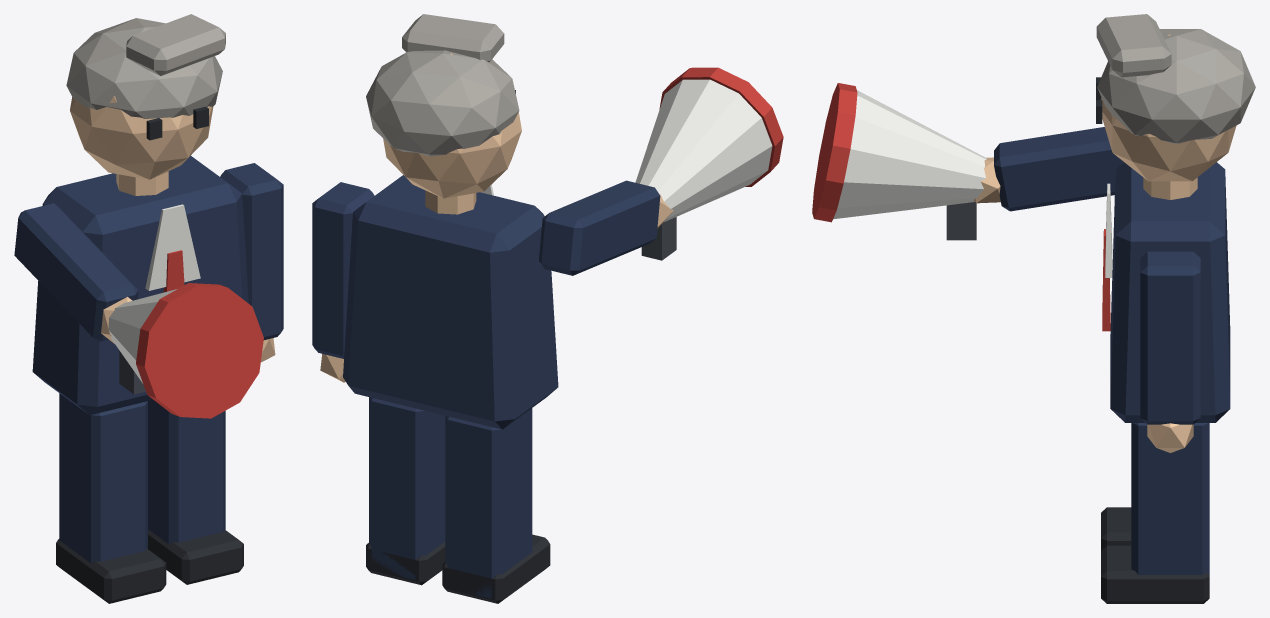
The model's file is headofcomms.glb.
3 views of the same model, side by side, from view 1: azimuth 30°, elevation 25°; view 2: azimuth 150°, elevation 25°; view 3: azimuth 270°, elevation 25° (orthographic). The views are drawn at different scales.
Parts seen in each view (by area): view 1: Body, ArmR, LegR, LegL, ArmL, Props; view 2: Body, ArmR, LegR, LegL, ArmL; view 3: Body, ArmR, LegL, ArmL, LegR, Props.
Boxes of the visible parts, x1,y1,x2,y2 form: Body: (32, 14, 248, 415); ArmR: (14, 203, 263, 418); LegR: (56, 393, 166, 603); LegL: (148, 400, 243, 584); ArmL: (220, 163, 283, 362); Props: (145, 204, 200, 292); Body: (343, 14, 558, 429); ArmR: (539, 67, 783, 275); LegR: (442, 408, 550, 603); LegL: (366, 397, 445, 585); ArmL: (312, 182, 374, 382); Body: (1096, 14, 1255, 422); ArmR: (812, 83, 1123, 240); LegL: (1101, 423, 1209, 603); ArmL: (1140, 251, 1200, 452); LegR: (1101, 507, 1131, 550); Props: (1102, 183, 1112, 331).
Bounding box in the file's own units: 0.8341 × 1.45 × 1.06.
